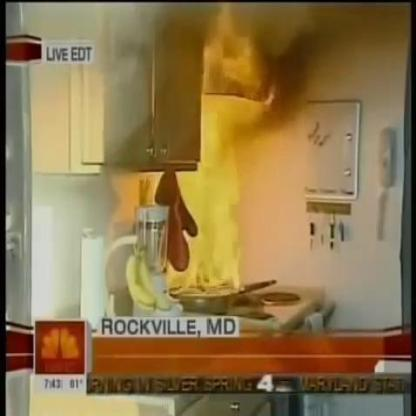fire: (151, 14, 270, 289)
